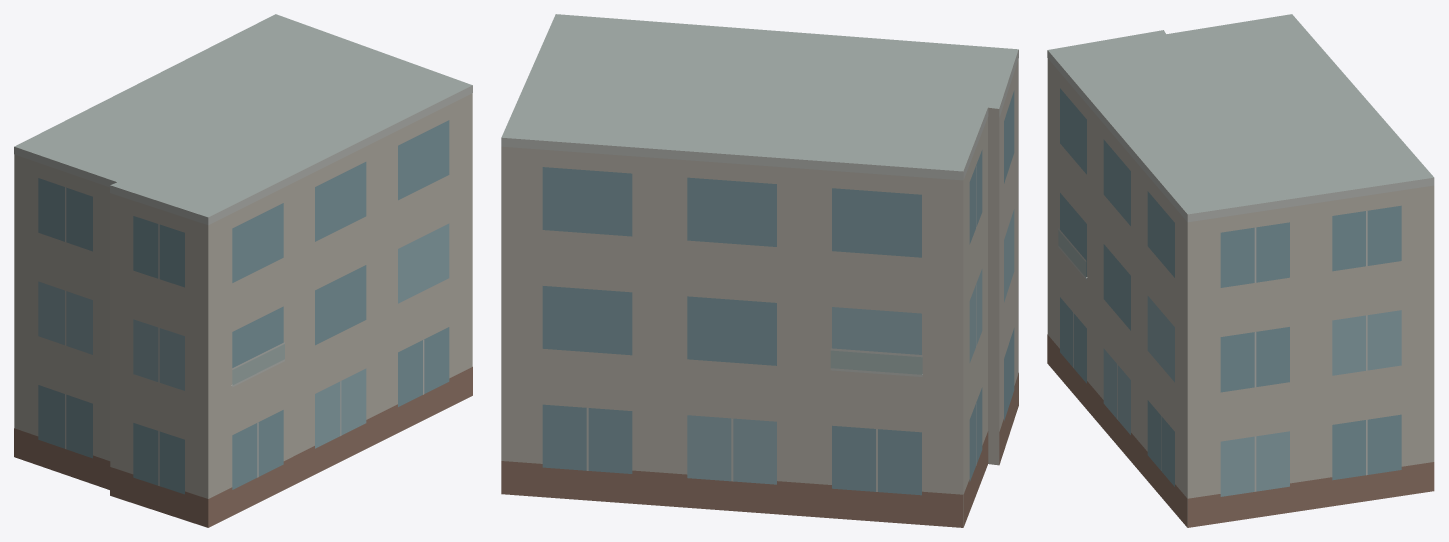
Rendered from survey-upis-32613821.glb.
The picture shows the model from 3 angles, left to right: view 1: azimuth 30°, elevation 25°; view 2: azimuth 150°, elevation 25°; view 3: azimuth 270°, elevation 25°; orthographic projection. The views are drawn at different scales.
Visible parts, largest first — view 1: survey-upis-32613821.tmp; view 2: survey-upis-32613821.tmp; view 3: survey-upis-32613821.tmp.
Boxes of the visible parts, bbox=[...] form: survey-upis-32613821.tmp: bbox=[14, 14, 472, 527]; survey-upis-32613821.tmp: bbox=[501, 14, 1018, 527]; survey-upis-32613821.tmp: bbox=[1047, 14, 1434, 527].
Size of the model in its own units: 13.31 by 9.7 by 10.86.
